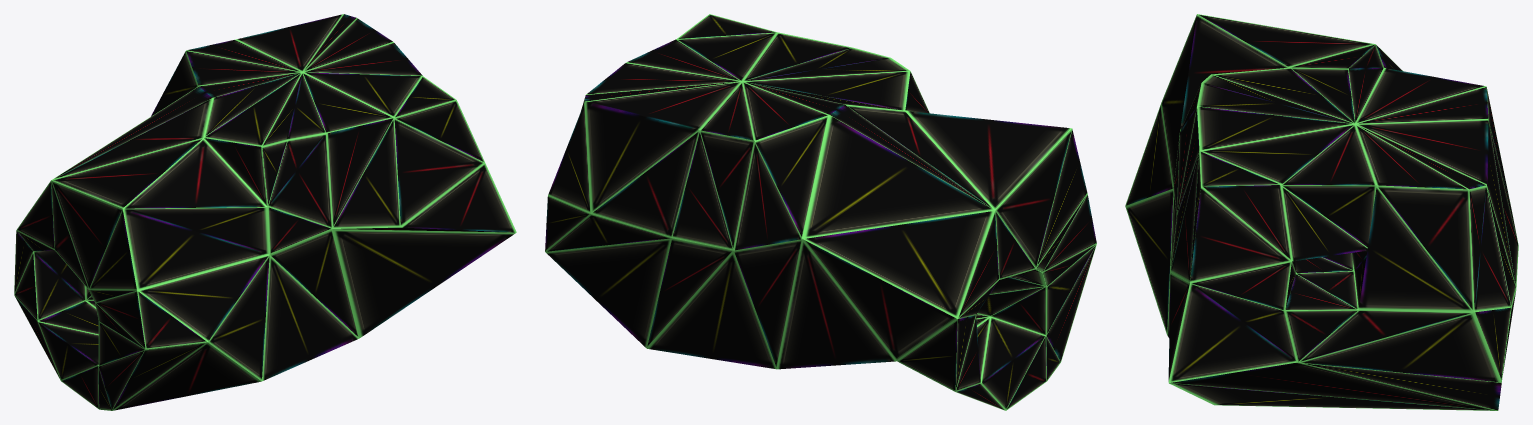
The model's file is bunker_dungeon_main_entrance_physics.DAE.
3 views of the same model, side by side, from view 1: azimuth 30°, elevation 25°; view 2: azimuth 150°, elevation 25°; view 3: azimuth 270°, elevation 25° (orthographic). The views are drawn at different scales.
Visible parts, largest first — view 1: Box06; view 2: Box06; view 3: Box06.
Boxes of the visible parts, <box> form: Box06: <box>14,14,516,410</box>; Box06: <box>545,14,1096,410</box>; Box06: <box>1125,14,1518,410</box>.
Size of the model in its own units: 94.1 by 59.08 by 67.12.
